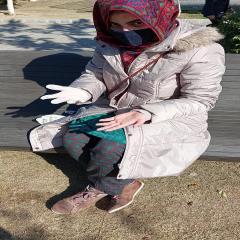gloved: (41, 86, 87, 103)
not-gloved: (96, 112, 144, 132)
